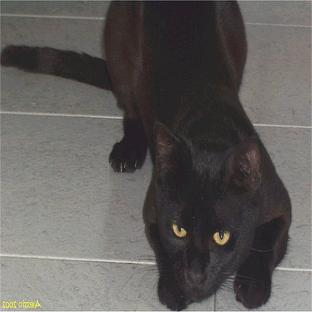Animal: (1, 1, 291, 308)
